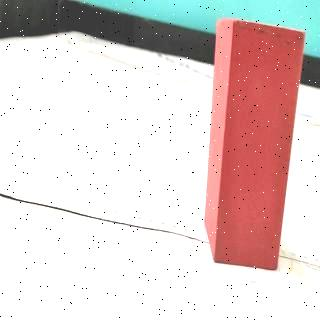redbox: (216, 19, 282, 264)
